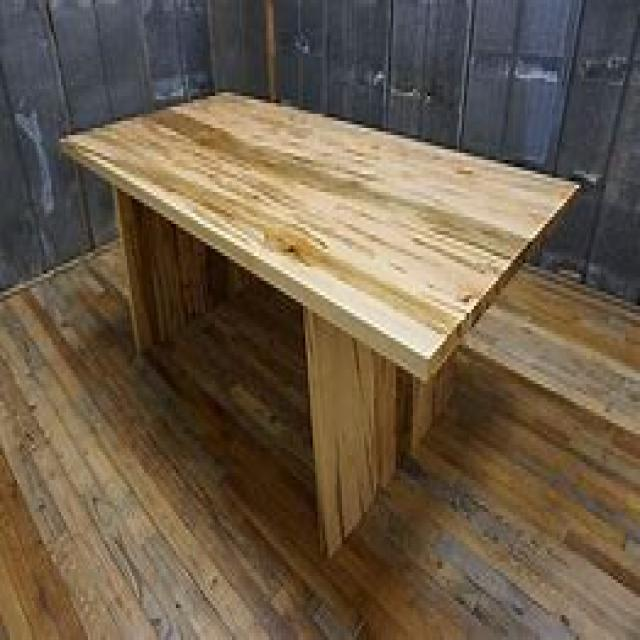table: (56, 86, 582, 558)
